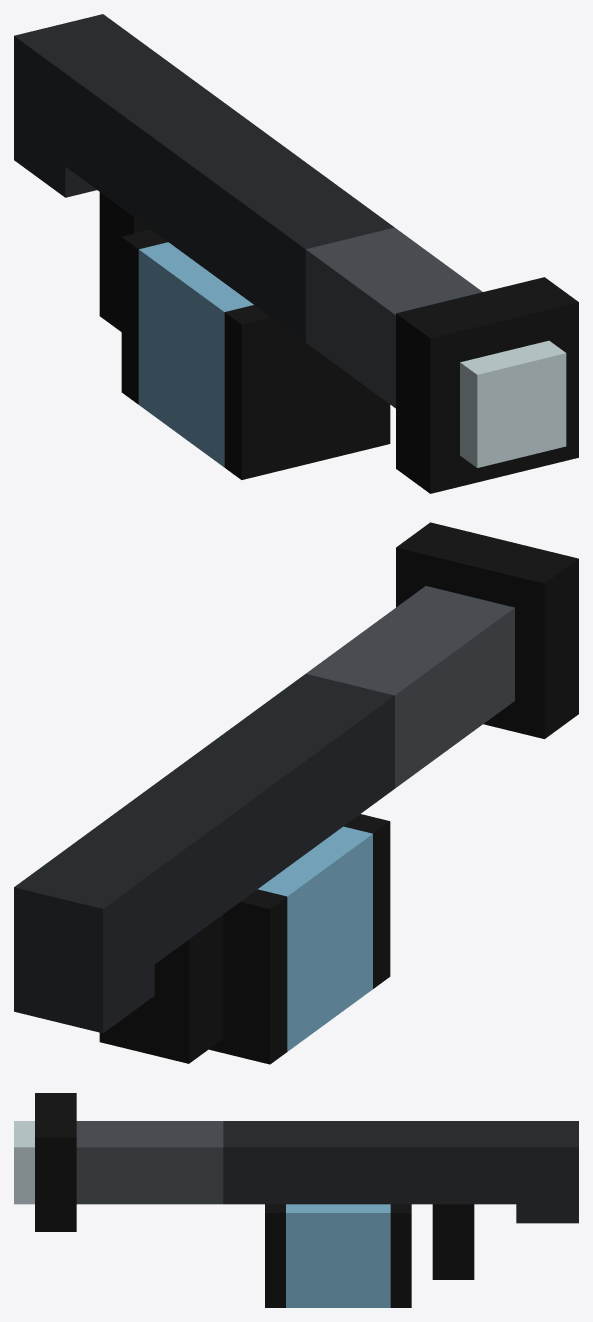
File: vox_freezer.glb
3 renders of one model, top to bottom at view 1: azimuth 30°, elevation 25°; view 2: azimuth 150°, elevation 25°; view 3: azimuth 270°, elevation 25°, orthographic. The views are drawn at different scales.
Parts seen in each view (by area): view 1: vox_freezer; view 2: vox_freezer; view 3: vox_freezer.
Part boxes in pixels (x1,y1,x2,y2): vox_freezer: [14, 14, 578, 493]; vox_freezer: [14, 522, 578, 1064]; vox_freezer: [14, 1093, 578, 1307].
Size of the model in its own units: 0.1 by 0.18 by 0.54.
